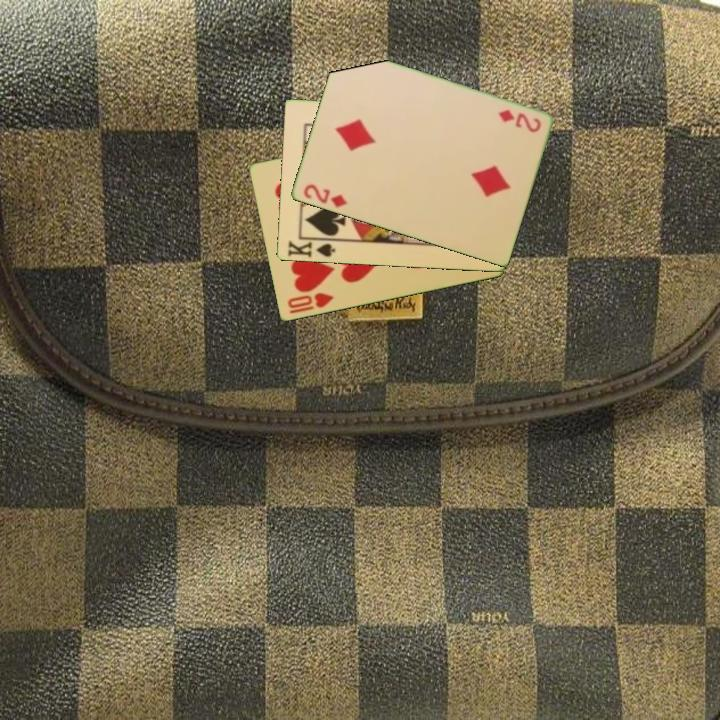10h: (284, 289, 336, 317)
2d: (300, 181, 350, 211), (495, 106, 544, 135)
Ks: (284, 235, 339, 260)
